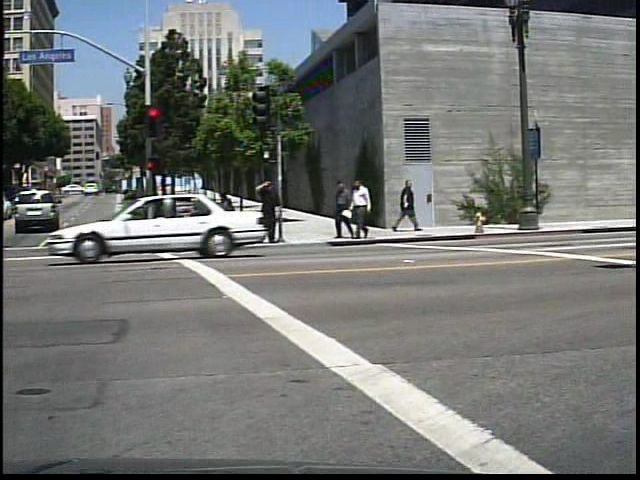person: (395, 173, 426, 236), (260, 172, 285, 243)
